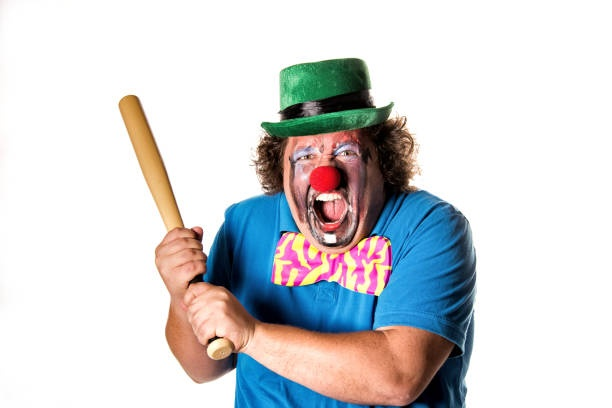bita: (115, 86, 228, 358)
